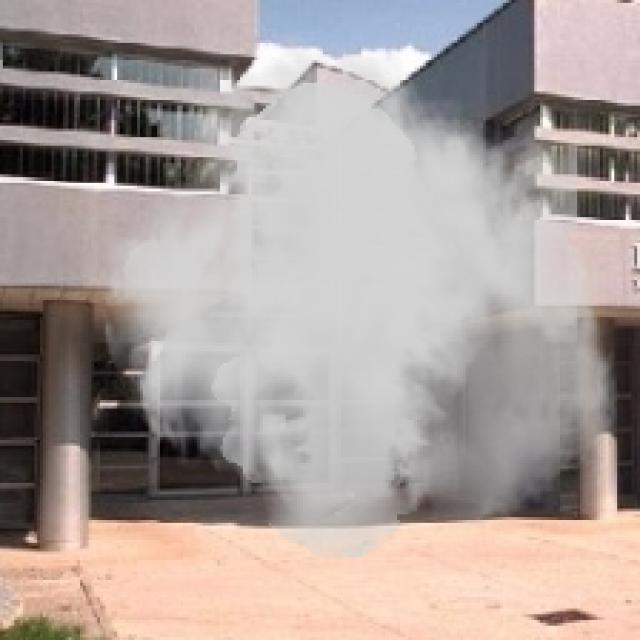smoke: (97, 29, 623, 560)
